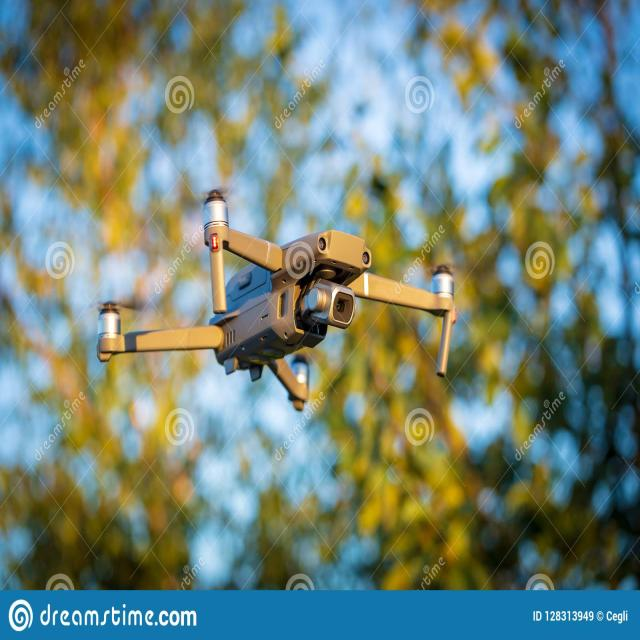drone: (76, 176, 480, 416)
